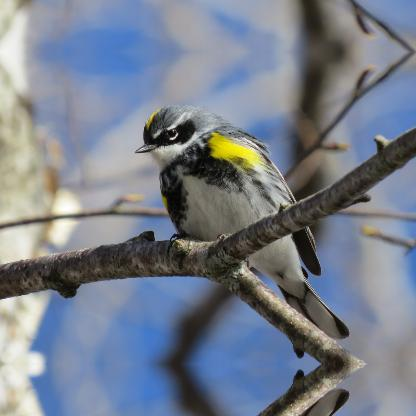Bird: (127, 104, 337, 330)
